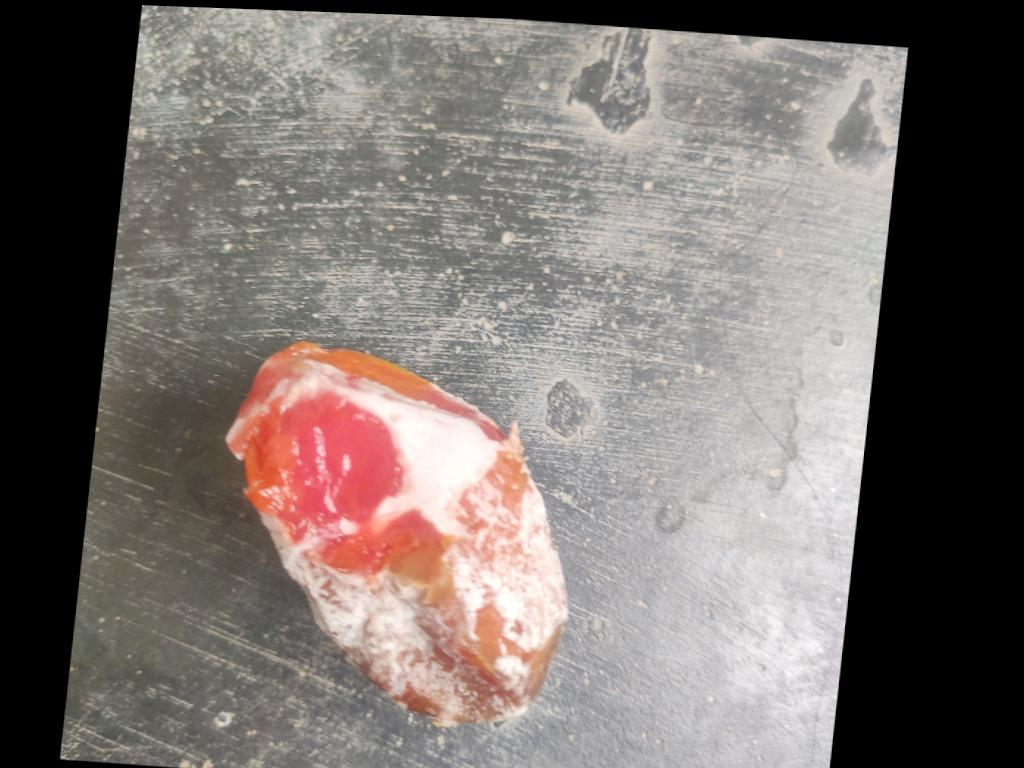rot_mold_decay: (226, 347, 565, 724)
tomato: (226, 342, 565, 724)
